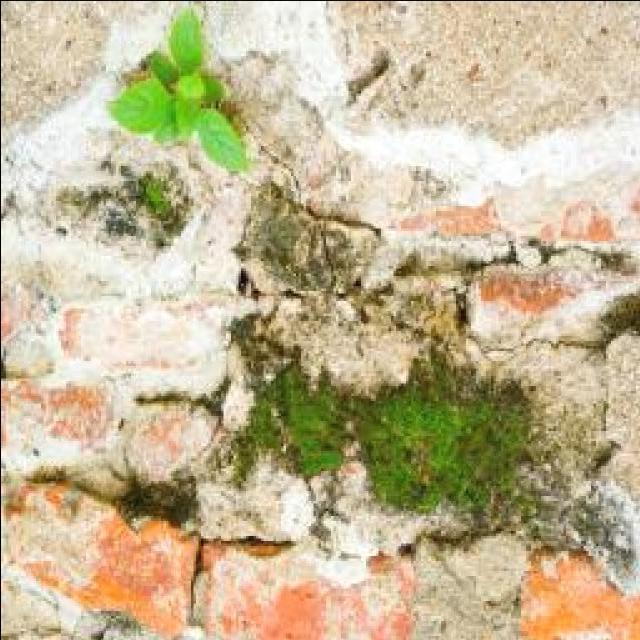crack: (2, 3, 638, 637), (0, 112, 256, 537), (307, 2, 640, 251), (229, 43, 451, 261), (2, 1, 126, 138)
vegetation: (336, 324, 600, 566), (105, 5, 252, 173), (49, 168, 200, 260), (331, 6, 457, 109), (1, 254, 93, 393), (224, 46, 332, 154), (2, 570, 85, 636), (52, 182, 121, 235), (168, 6, 206, 76)
